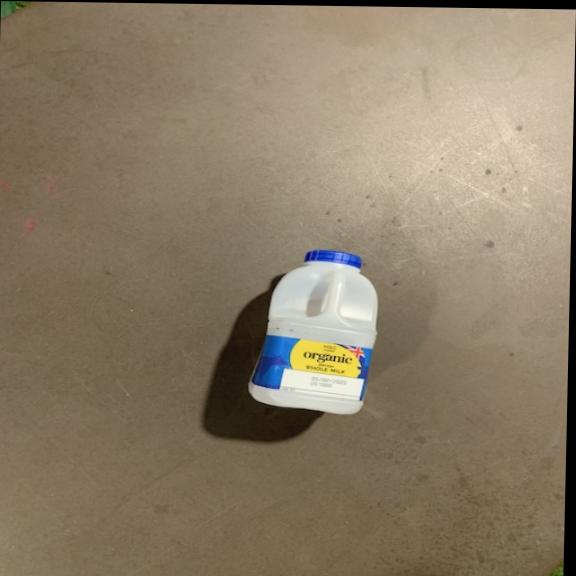Plastik: (246, 243, 380, 415)
